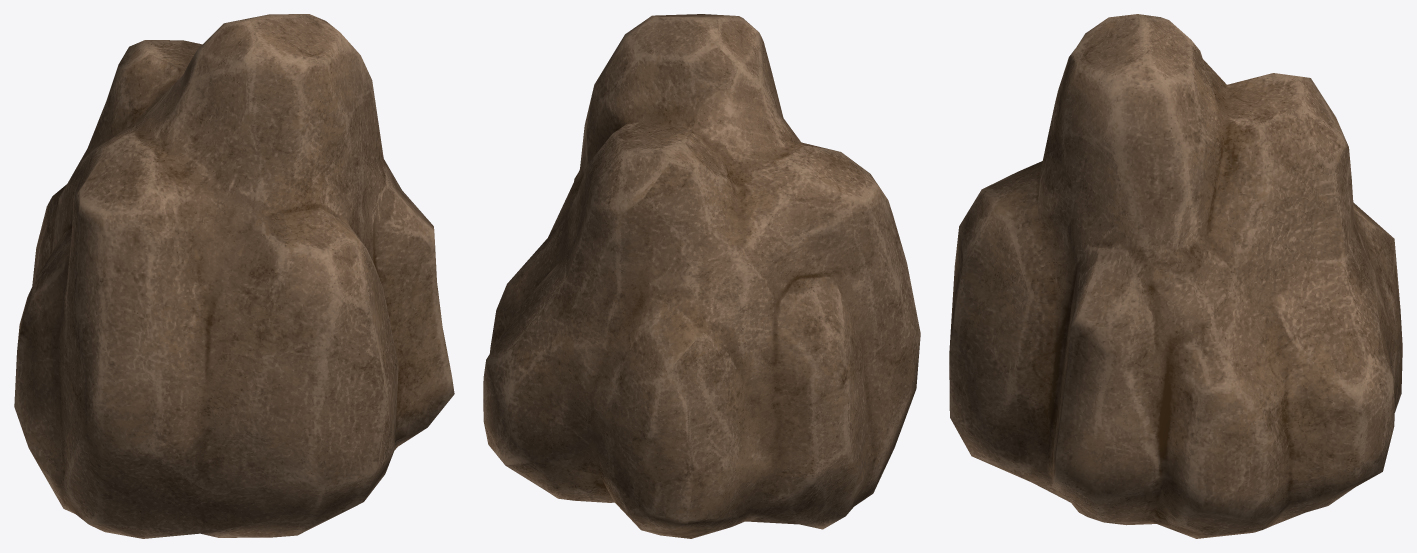
Rendered from sb_obj_nature007_Rock01a.fbx.
The picture shows the model from 3 angles, left to right: view 1: azimuth 30°, elevation 25°; view 2: azimuth 150°, elevation 25°; view 3: azimuth 270°, elevation 25°; orthographic projection. The views are drawn at different scales.
Parts seen in each view (by area): view 1: sb_obj_nature007_Rock01a; view 2: sb_obj_nature007_Rock01a; view 3: sb_obj_nature007_Rock01a.
Boxes of the visible parts, x1,y1,x2,y2 form: sb_obj_nature007_Rock01a: (14,14,454,538); sb_obj_nature007_Rock01a: (483,14,920,538); sb_obj_nature007_Rock01a: (949,14,1402,538).
Bounding box in the file's own units: 2.71 × 3.23 × 2.78.
